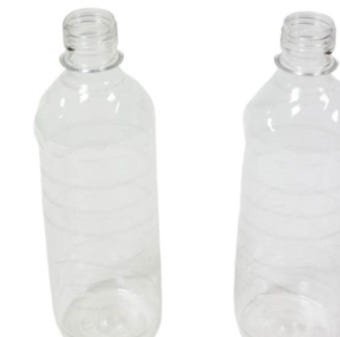plastic: (35, 8, 164, 336)
